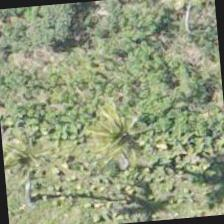Kelapa_Sawit: (66, 82, 164, 180)
